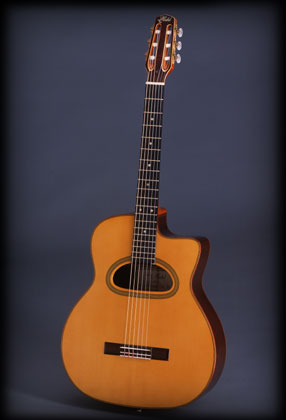guitar: (58, 13, 229, 409)
